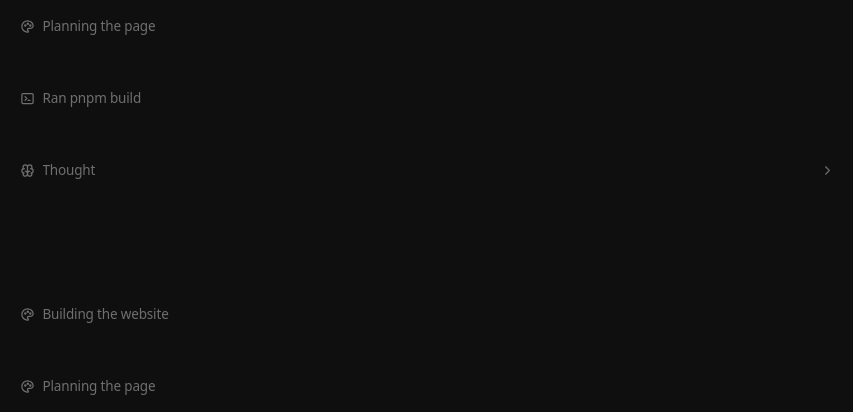
Test: design activity rows › collapses a repeated phase while keeping provider activity visible
Expected: the text "Planning the page" is shown 2 times, top-left (42, 16), bottom-right (155, 34); top-left (42, 376), bottom-right (155, 394)
Expected: the text "Building the website" is shown, top-left (42, 304), bottom-right (169, 322)
Click the button "Thought": (69, 170) top-left (16, 157), bottom-right (836, 187)
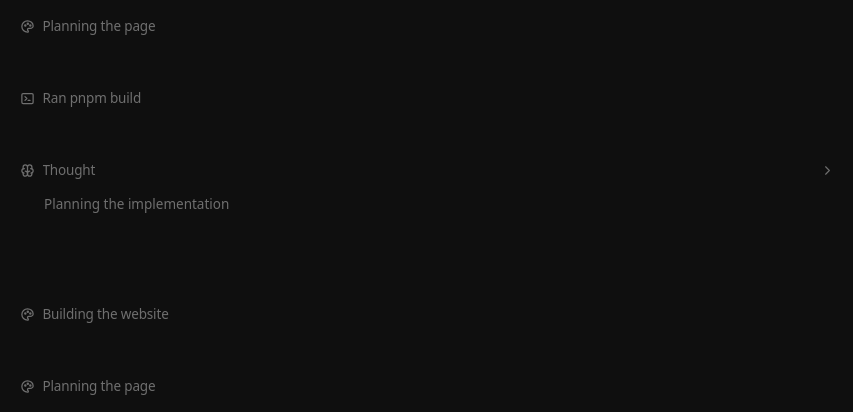
Now the text "Planning the implementation" is shown, box top-left (44, 195), bottom-right (229, 213)
